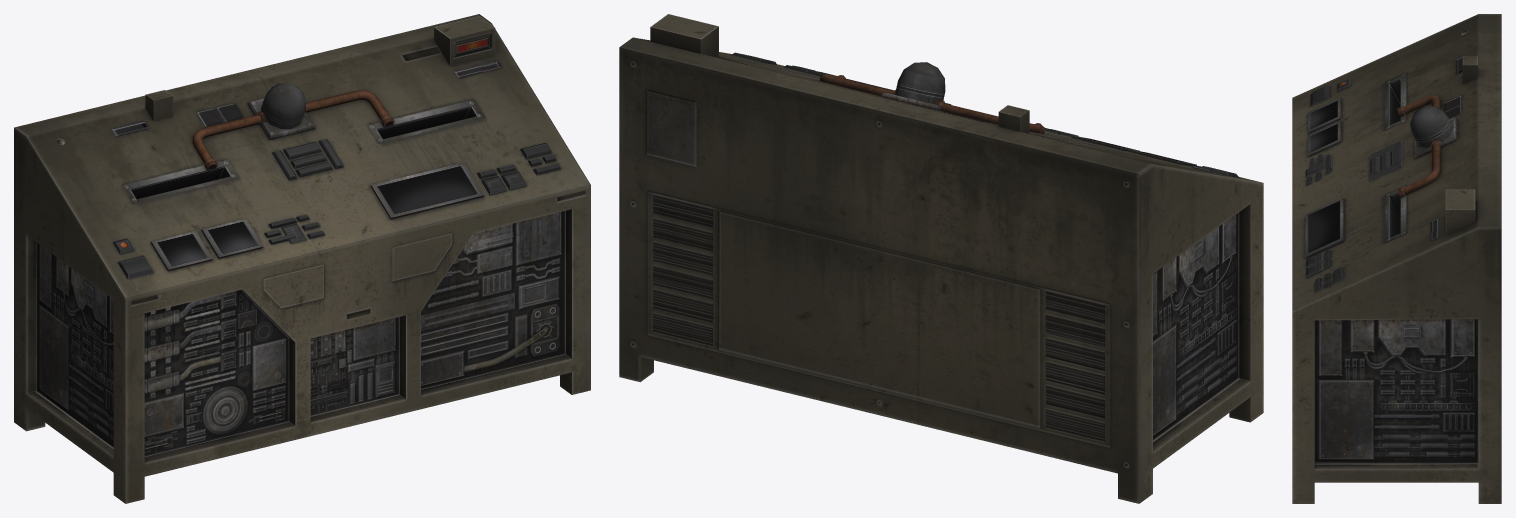
File: computer_table_flesher.DAE
3 views of the same model, side by side, from view 1: azimuth 30°, elevation 25°; view 2: azimuth 150°, elevation 25°; view 3: azimuth 270°, elevation 25° (orthographic). The views are drawn at different scales.
Parts seen in each view (by area): view 1: computer_table_flesher; view 2: computer_table_flesher; view 3: computer_table_flesher.
Boxes of the visible parts, left/top/right/bottom form: computer_table_flesher: left=14, top=14, right=590, bottom=503; computer_table_flesher: left=619, top=14, right=1263, bottom=503; computer_table_flesher: left=1292, top=14, right=1501, bottom=503.
Bounding box in the file's own units: 200 × 127 × 82.96.
